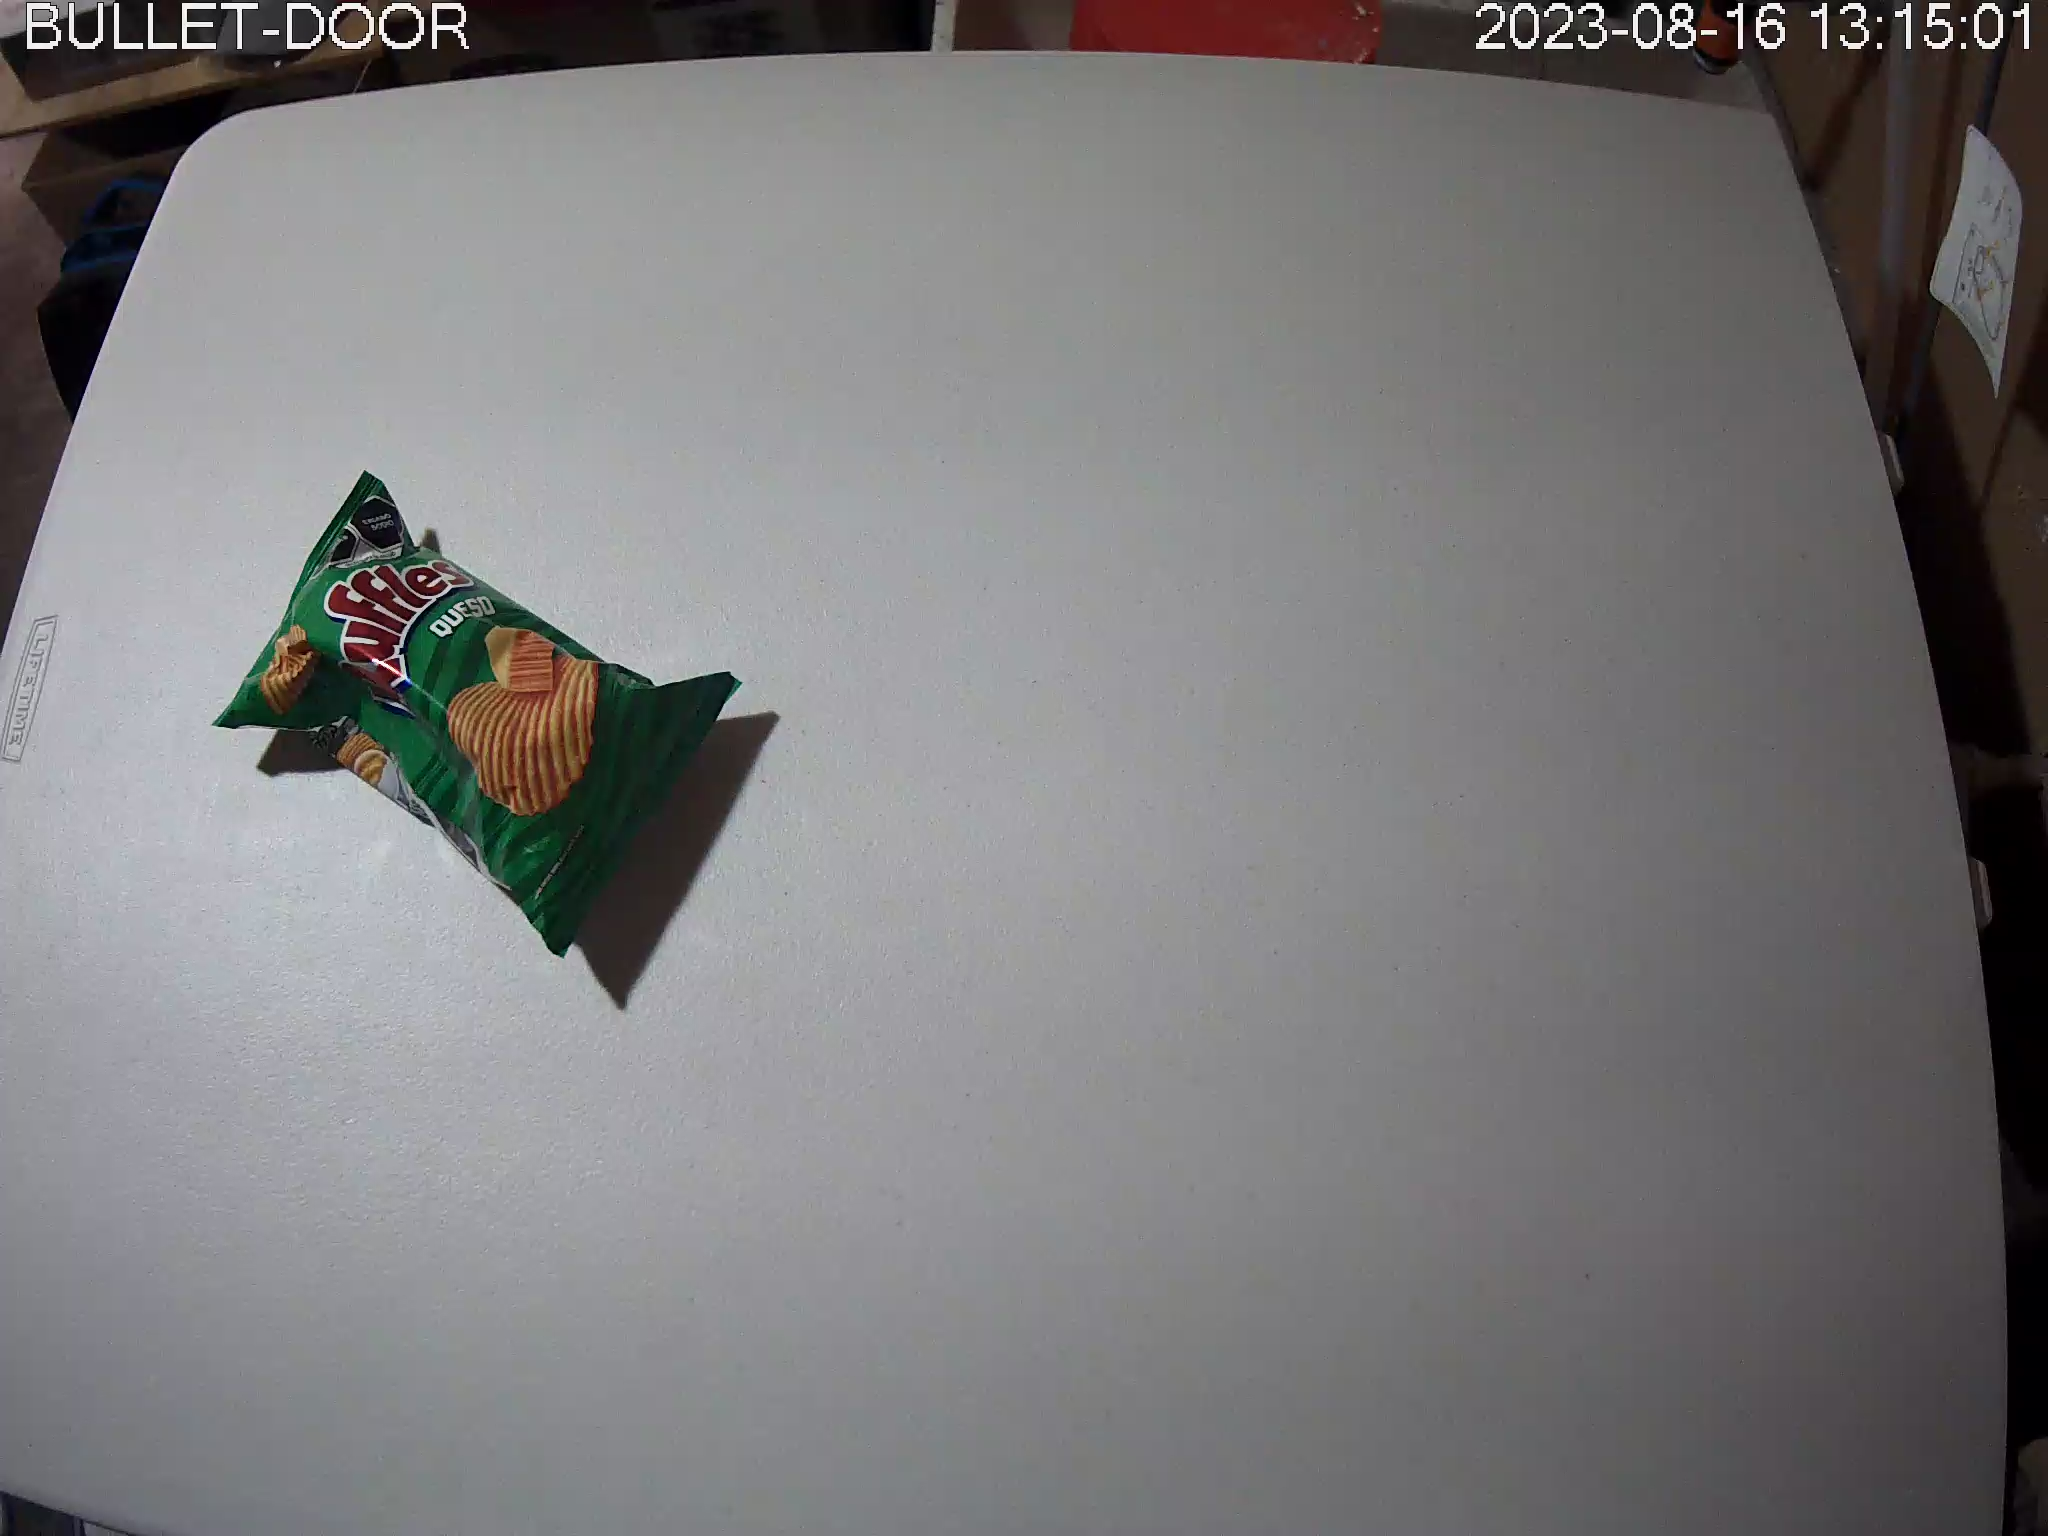RufflesQ_48_F: (210, 471, 743, 958)
